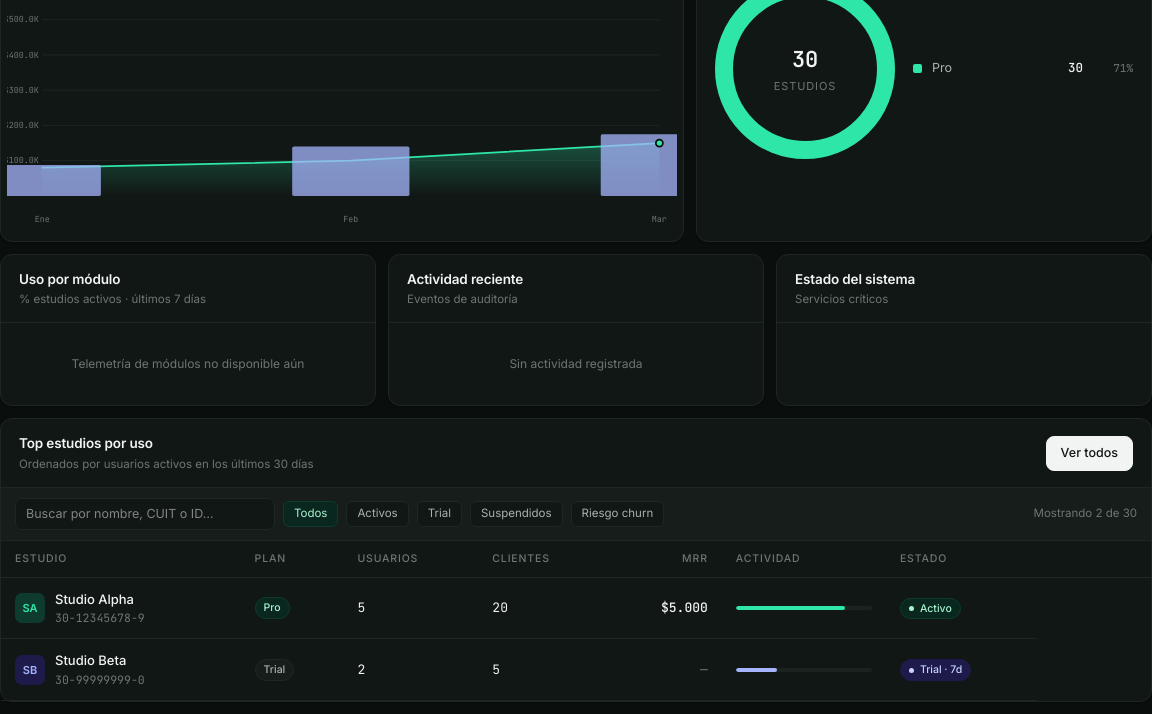
Test: AdminDashboardPage › chip filters affect displayed studios
(page scrolled)
Check: the text "Studio Alpha" is shown, box [55,590,145,609]
Check: the text "Studio Beta" is shown, box [55,652,126,668]
Click the button "Trial".
click(439, 514)  # box [417,501,462,527]
(page scrolled)
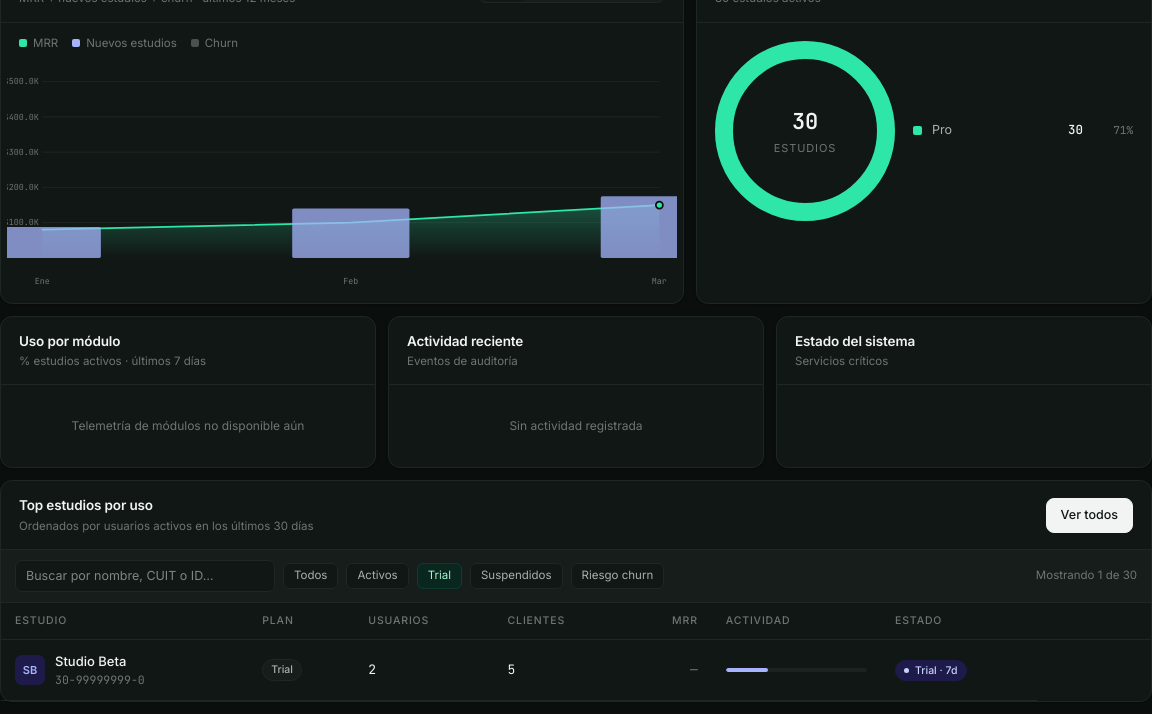
Check: the text "Studio Beta" is shown, box [55,653,126,669]
Check: the text "Studio Alpha" is gone
